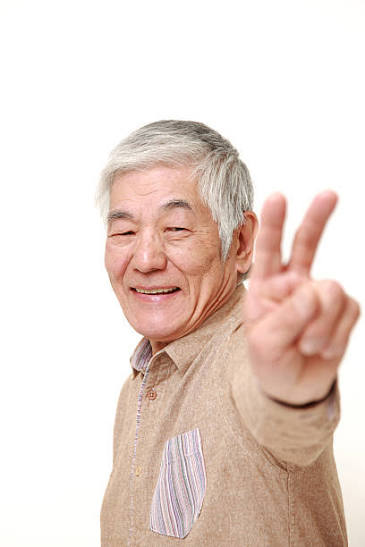peace_sign: (242, 183, 364, 400)
